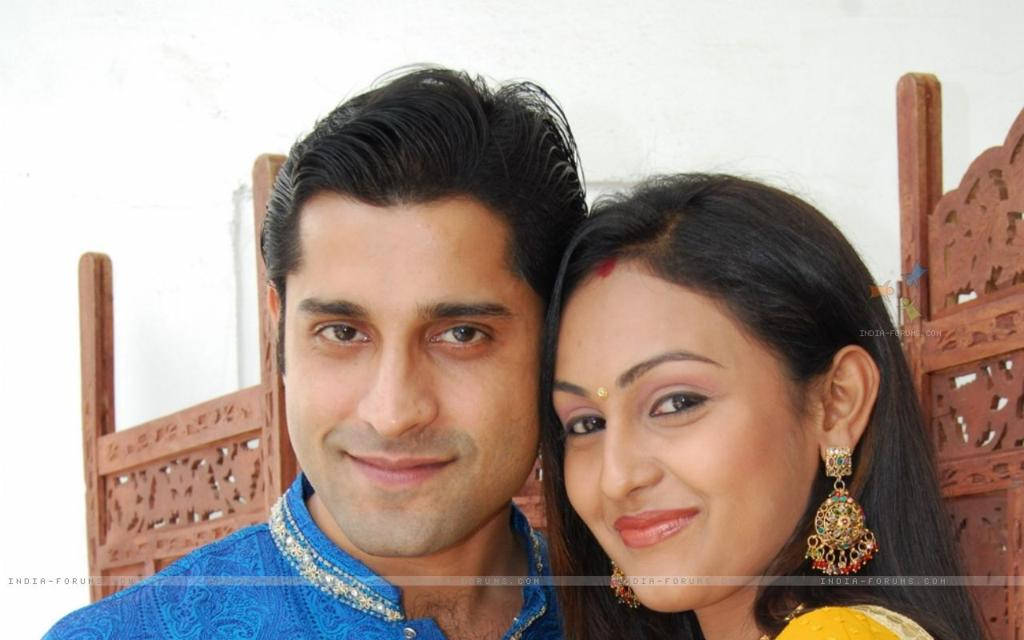face: (278, 178, 542, 554), (548, 262, 784, 610)
